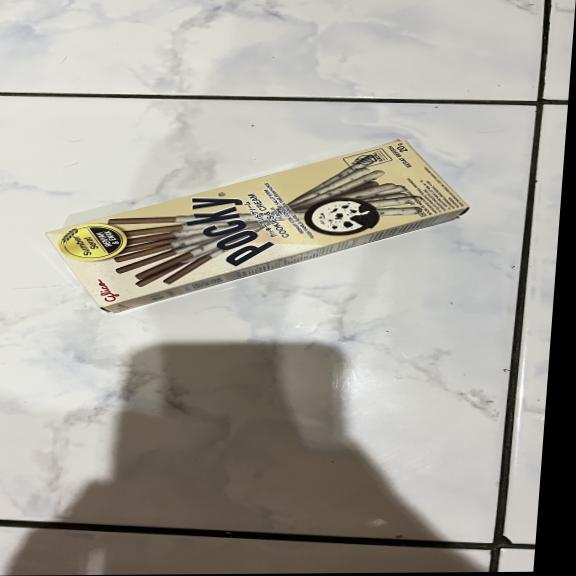Kertas: (45, 136, 470, 313)
